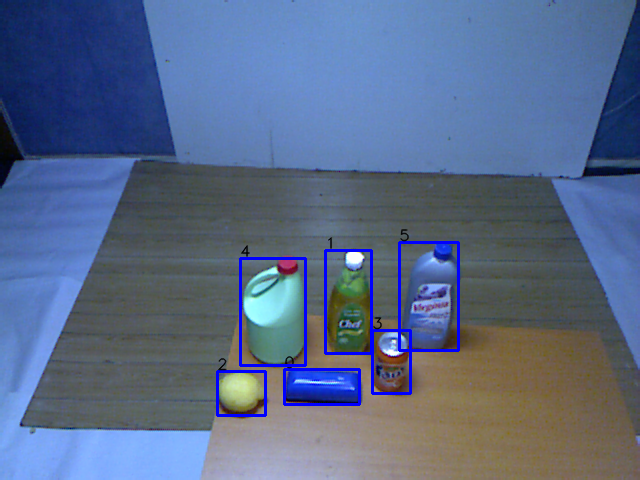aceite: (321, 247, 376, 360)
borrador: (280, 362, 365, 411)
cera: (400, 239, 464, 359)
cloroplano: (240, 251, 307, 369)
lata: (370, 330, 412, 397)
limon: (211, 366, 271, 418)
